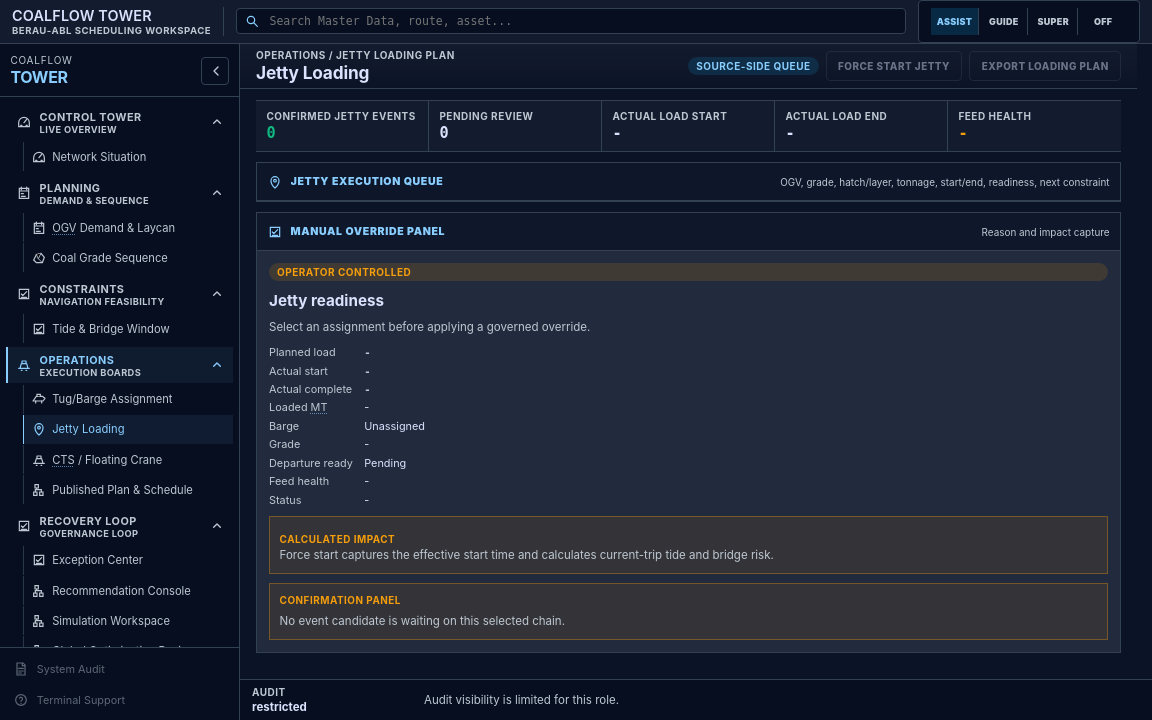
Test: submenu navigation is not blocked by workspace refresh
The image size is (1152, 720).
Check: the heading "Jetty Loading" is shown, box top-left (256, 62), bottom-right (369, 83)
Step 1. Click the button "Tug/Barge Assignment" → [128, 399], box top-left (23, 385), bottom-right (233, 414)
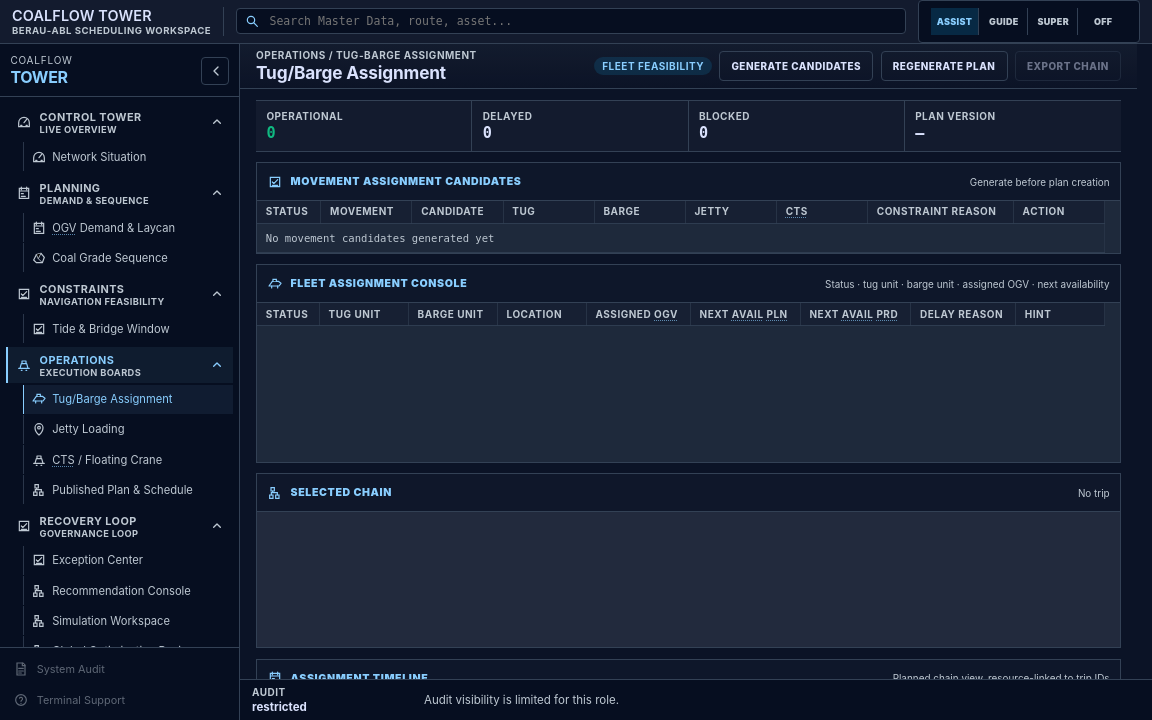
Check: the heading "Tug/Barge Assignment" is shown, box top-left (256, 63), bottom-right (477, 82)
